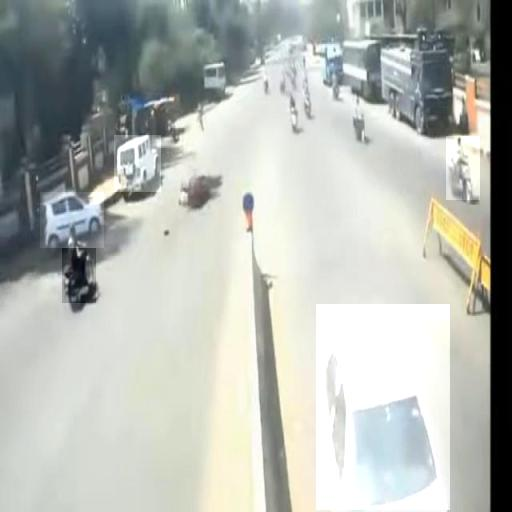小汽车: (316, 304, 450, 510), (40, 192, 104, 248), (114, 135, 161, 192)
自行车: (62, 227, 96, 303), (446, 136, 480, 200)
